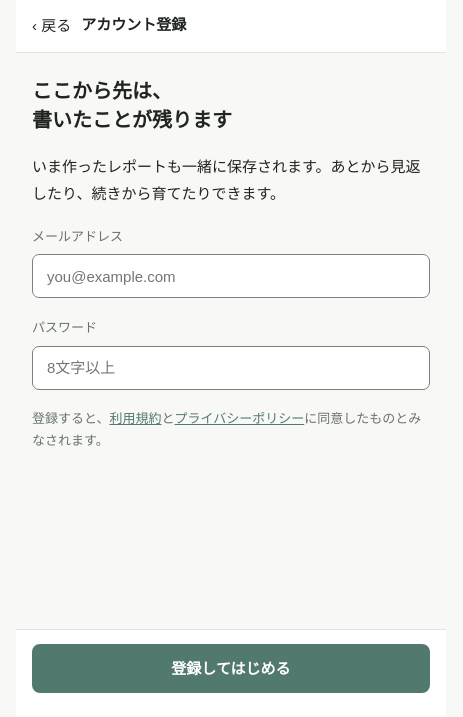
Test case: S-21 › メール重複で失敗したら同じ画面にエラーを表示し、入力内容を消さない
Step 1. Type "user@example.com" into the field with id "s21-email" → point(231, 276), box [32,254,430,298]
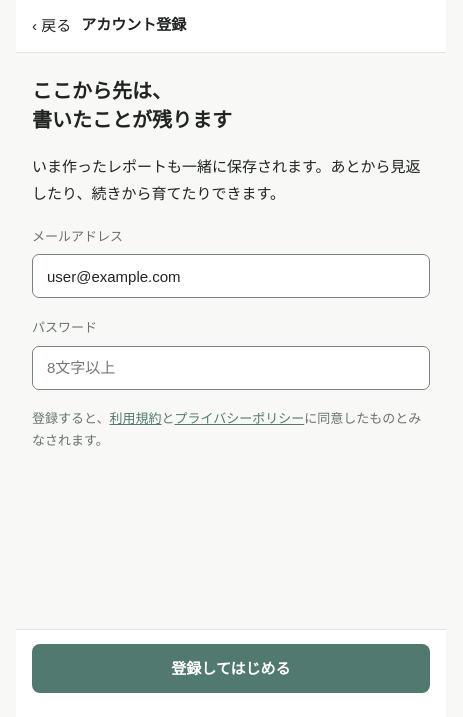
Step 2. Type "correct-horse-battery-9" into the password field with id "s21-password" → point(231, 368), box [32,346,430,390]
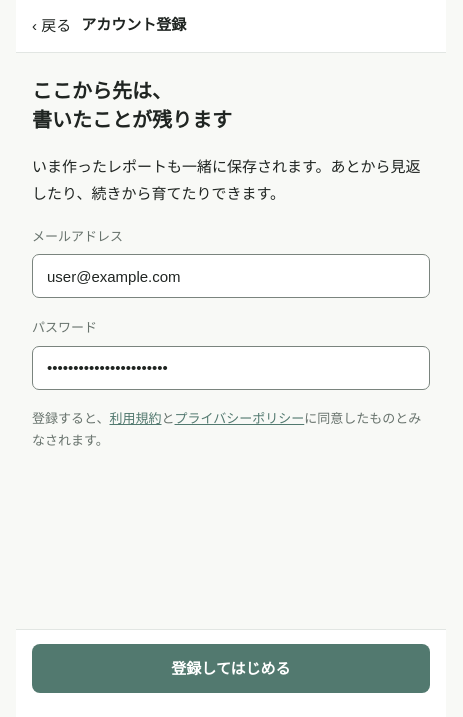
Step 3. Submit the form
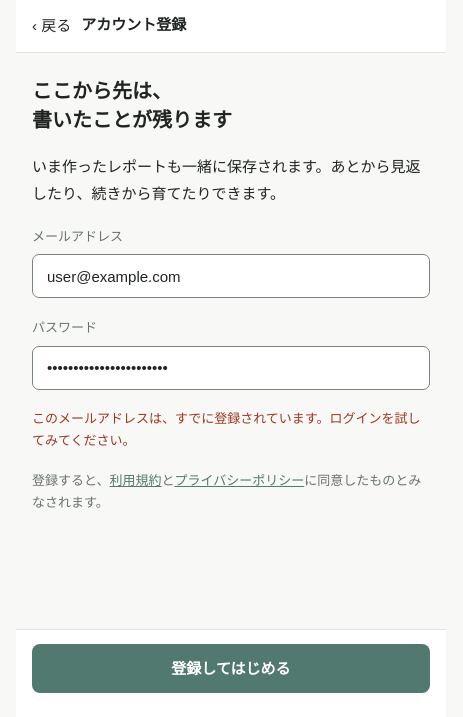
expect the text "すでに登録されています" is shown: met, box [32,411,420,448]
